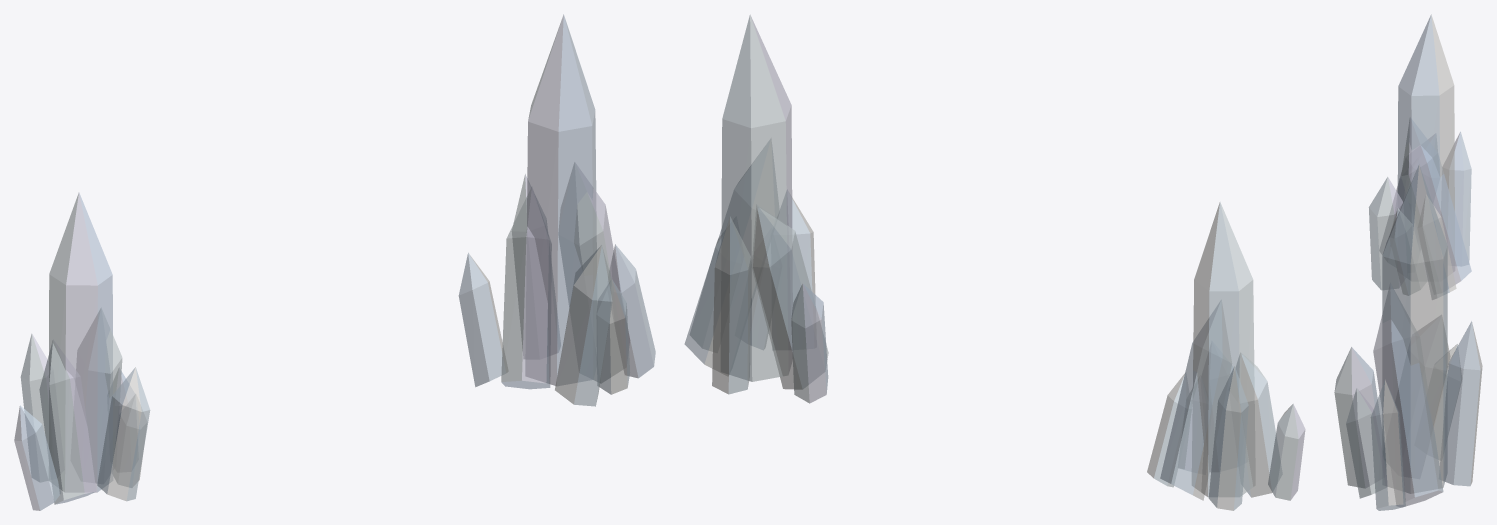
File: crystal-mature-v02.glb
3 renders of one model, left to right at view 1: azimuth 30°, elevation 25°; view 2: azimuth 150°, elevation 25°; view 3: azimuth 270°, elevation 25°, orthographic. The views are drawn at different scales.
Visible parts, largest first — view 1: Quartz_0 (×2), Quartz_1 (×2), Quartz_3 (×2), Quartz_2 (×2), Quartz_5 (×2), Quartz_4 (×2), Quartz_7 (×2), Quartz_6; view 2: Quartz_0 (×2), Quartz_2 (×2), Quartz_1 (×2), Quartz_7 (×2), Quartz_5 (×2), Quartz_6 (×2), Quartz_3, Quartz_4; view 3: Quartz_0 (×2), Quartz_2 (×2), Quartz_7 (×2), Quartz_3 (×2), Quartz_6 (×2), Quartz_4 (×2), Quartz_1 (×2), Quartz_5.
Part boxes in pixels (<box>): Quartz_0 (×2): <box>49,14,596,492</box>; Quartz_1 (×2): <box>39,187,551,504</box>; Quartz_3 (×2): <box>97,245,614,501</box>; Quartz_2 (×2): <box>76,162,629,483</box>; Quartz_5 (×2): <box>14,253,507,510</box>; Quartz_4 (×2): <box>113,279,629,487</box>; Quartz_7 (×2): <box>20,174,560,482</box>; Quartz_6: <box>609,244,655,378</box>; Quartz_0 (×2): <box>721,14,1255,497</box>; Quartz_2 (×2): <box>684,139,1231,500</box>; Quartz_1 (×2): <box>752,205,1282,497</box>; Quartz_7 (×2): <box>712,216,1248,510</box>; Quartz_5 (×2): <box>791,283,1305,500</box>; Quartz_6 (×2): <box>690,236,1191,487</box>; Quartz_3: <box>778,190,815,302</box>; Quartz_4: <box>750,289,768,349</box>; Quartz_0 (×2): <box>1382,14,1454,493</box>; Quartz_2 (×2): <box>1373,117,1471,507</box>; Quartz_7 (×2): <box>1440,131,1482,486</box>; Quartz_3 (×2): <box>1334,177,1403,487</box>; Quartz_6 (×2): <box>1370,195,1456,510</box>; Quartz_4 (×2): <box>1346,208,1426,498</box>; Quartz_1 (×2): <box>1379,134,1450,424</box>; Quartz_5: <box>1434,344,1461,459</box>.
Bounding box in the file's own units: 2.85 × 1.61 × 0.6504.
